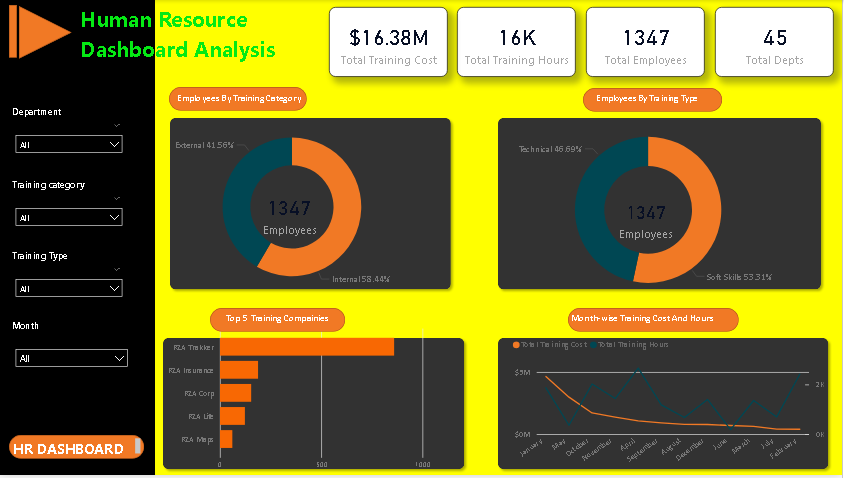

What the dashboard file says about the page in this screenshot:
{"tool":"powerbi","page":{"name":"Main Page","canvas":[1280,720],"ordinal":0},"visuals":[{"type":"donutChart","fields":{"Y":["Key Measures.Total Employees"],"Category":["RZATrainings.Trainer Type"]},"box":[251.8,160.8,388.2,306.4],"z":0,"group":"g2"},{"type":"donutChart","fields":{"Y":["Key Measures.Total Employees"],"Category":["RZATrainings.Training Type"]},"box":[770.4,160.8,430.7,315.5],"z":0,"group":"g1"},{"type":"shape","box":[241.1,503.5,474.7,216.9],"z":0},{"type":"card","fields":{"Values":["Key Measures.Total Employees"]},"box":[321.2,272.9,239.5,103.2],"z":1000,"group":"g2"},{"type":"card","fields":{"Values":["Key Measures.Total Employees"]},"box":[901.6,282.6,160.8,98.4],"z":1000,"group":"g1"},{"type":"shape","box":[749.2,503.5,518.7,216.9],"z":1000},{"type":"shape","box":[749.2,169.9,508.1,277.5],"z":2000},{"type":"shape","box":[251.8,169.9,444.4,277.5],"z":3000},{"type":"card","fields":{"Values":["Key Measures.Total Employees"]},"box":[891.8,10.6,180.5,106.2],"z":4000},{"type":"card","fields":{"Values":["Key Measures.Total Depts"]},"box":[1087.4,10.6,180.5,106.2],"z":5000},{"type":"card","fields":{"Values":["Key Measures.Total Training Hours"]},"box":[696.1,10.6,180.5,106.2],"z":6000},{"type":"card","fields":{"Values":["Key Measures.Total Training Cost"]},"box":[502,10.6,180.5,106.2],"z":7000},{"type":"barChart","fields":{"Y":["Key Measures.Total Employees"],"Category":["RZATrainings.Company"]},"box":[251.8,485.3,409.5,235.1],"z":8000},{"type":"group","id":"g1","title":"Group 1","box":[770.4,160.8,430.7,315.5],"z":9000},{"type":"group","id":"g2","title":"Group 2","box":[251.8,160.8,388.2,306.4],"z":10000},{"type":"shape","box":[887.2,133.5,210.8,36.4],"z":11000},{"type":"shape","box":[259.3,131.9,209.3,36.4],"z":12000},{"type":"shape","box":[16.7,659.7,204.7,36.4],"z":13000},{"type":"textbox","box":[902.4,133.5,180.5,36.4],"z":14000},{"type":"textbox","box":[266.9,133.5,224.5,54.6],"z":15000},{"type":"lineChart","fields":{"Category":["RZATrainings.Month"],"Y":["Key Measures.Total Training Cost"],"Y2":["Key Measures.Total Training Hours"]},"box":[775,503.5,482.3,216.9],"z":16000},{"type":"shape","box":[864.5,467.1,259.3,36.4],"z":17000},{"type":"shape","box":[321.5,467.1,204.7,36.4],"z":18000},{"type":"textbox","box":[321.5,467.1,204.7,36.4],"z":19000},{"type":"textbox","box":[864.5,467.1,259.3,36.4],"z":20000},{"type":"slicer","title":"Department","fields":{"Values":["RZATrainings.Department"]},"box":[16.7,160.8,182,88],"z":21000},{"type":"slicer","title":"Training category","fields":{"Values":["RZATrainings.Trainer Type"]},"box":[16.7,271.5,182,88],"z":22000},{"type":"slicer","title":"Training Type","fields":{"Values":["RZATrainings.Training Type"]},"box":[16.7,379.1,182,88],"z":23000},{"type":"slicer","title":"Month","fields":{"Values":["RZATrainings.Month"]},"box":[16.7,485.3,189.6,88],"z":24000},{"type":"textbox","box":[119.8,0,371.6,116.8],"z":25000},{"type":"shape","box":[16.7,7.6,12.1,80.4],"z":26000},{"type":"shape","box":[31.8,9.1,80.4,80.4],"z":27000},{"type":"textbox","box":[0,659.7,221.4,36.4],"z":28000}]}

Visuals, with their boxes in screenshot pixels (x1, y1, x2, y2), scaled from the page's 1280x720 canvas onto the 844x478 screenshot:
donutChart - Key Measures.Total Employees x RZATrainings.Trainer Type: (166,107,422,310)
donutChart - Key Measures.Total Employees x RZATrainings.Training Type: (508,107,792,316)
shape: (159,334,472,477)
card - Key Measures.Total Employees: (212,181,370,250)
card - Key Measures.Total Employees: (594,188,701,253)
shape: (494,334,836,477)
shape: (494,113,829,297)
shape: (166,113,459,297)
card - Key Measures.Total Employees: (588,7,707,78)
card - Key Measures.Total Depts: (717,7,836,78)
card - Key Measures.Total Training Hours: (459,7,578,78)
card - Key Measures.Total Training Cost: (331,7,450,78)
barChart - Key Measures.Total Employees x RZATrainings.Company: (166,322,436,477)
"Group 1" group: (508,107,792,316)
"Group 2" group: (166,107,422,310)
shape: (585,89,724,113)
shape: (171,88,309,112)
shape: (11,438,146,462)
textbox: (595,89,714,113)
textbox: (176,89,324,125)
lineChart - RZATrainings.Month x Key Measures.Total Training Cost: (511,334,829,477)
shape: (570,310,741,334)
shape: (212,310,347,334)
textbox: (212,310,347,334)
textbox: (570,310,741,334)
"Department" slicer: (11,107,131,165)
"Training category" slicer: (11,180,131,239)
"Training Type" slicer: (11,252,131,310)
"Month" slicer: (11,322,136,381)
textbox: (79,0,324,78)
shape: (11,5,19,58)
shape: (21,6,74,59)
textbox: (0,438,146,462)
